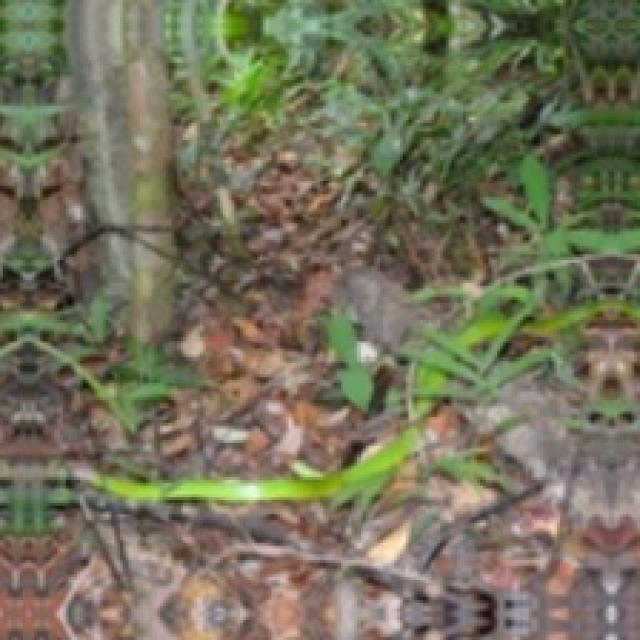red-tailed green ratsnake: (90, 301, 640, 503)
